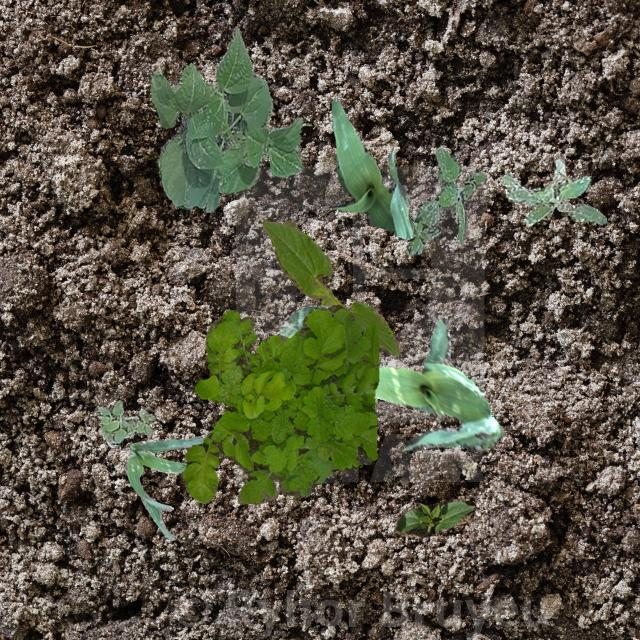crop: (150, 27, 302, 212), (263, 220, 399, 356), (373, 318, 502, 450), (331, 98, 414, 240), (124, 434, 206, 540), (394, 498, 474, 536), (278, 304, 326, 336)
weed: (180, 304, 378, 502), (406, 146, 486, 254), (500, 156, 606, 224), (94, 398, 154, 446)
